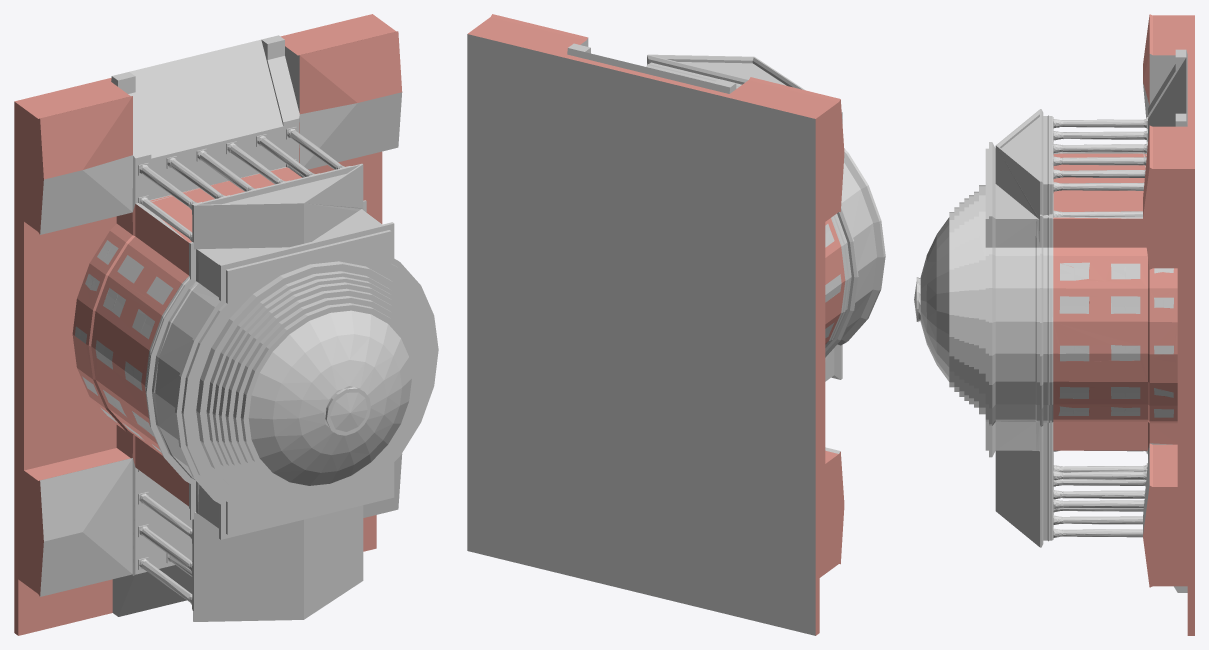
Rendered from rotunda.glb.
3 renders of one model, left to right at view 1: azimuth 30°, elevation 25°; view 2: azimuth 150°, elevation 25°; view 3: azimuth 270°, elevation 25°, orthographic. The views are drawn at different scales.
Parts seen in each view (by area): view 1: building; view 2: building; view 3: building.
Boxes of the visible parts, <box> form: building: <box>14,14,438,635</box>; building: <box>467,14,885,635</box>; building: <box>914,14,1194,635</box>.
Size of what is drawn, in the model's own units: 1.02 by 1.47 by 0.7917.
